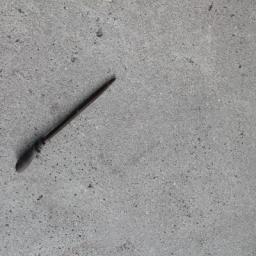FOD: (14, 76, 119, 176)
